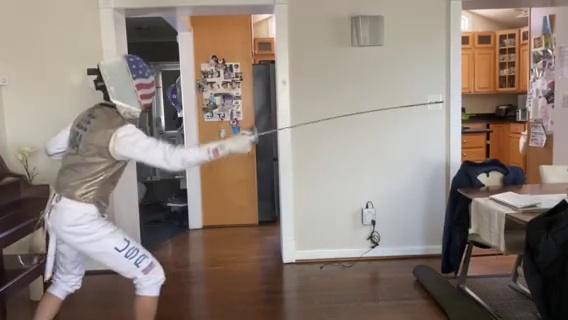blade-guard: (246, 125, 263, 146)
blade-tip: (396, 101, 445, 112)
fencing-blade: (233, 100, 449, 148)
